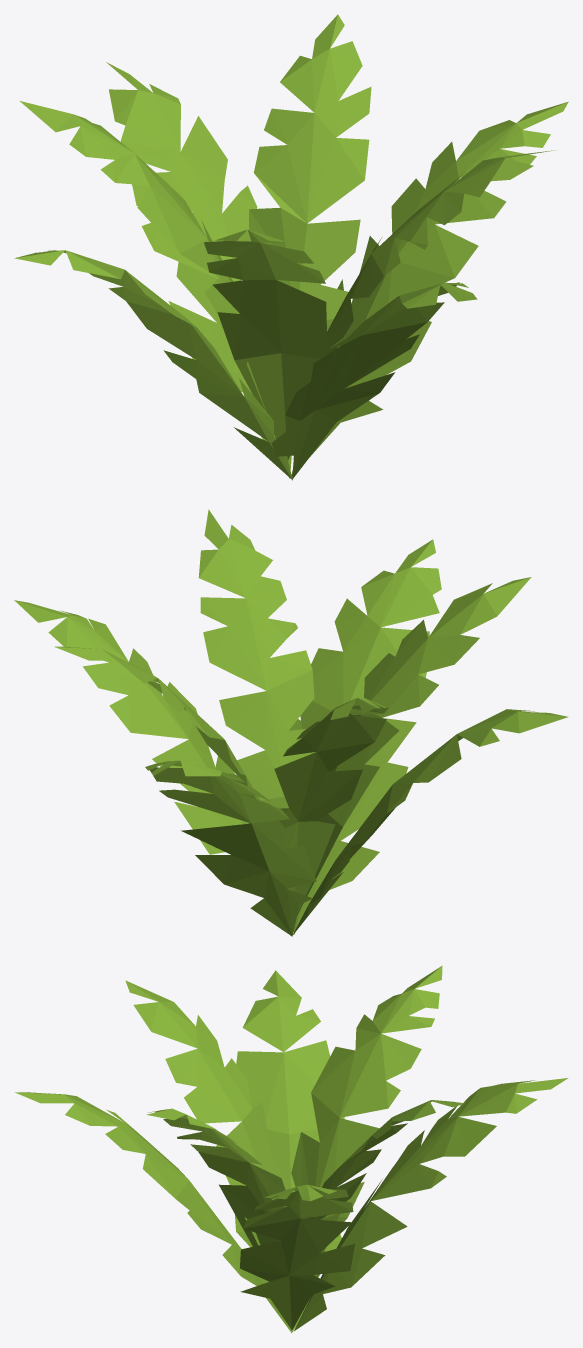
Rendered from SM_Grass_Fern_Mature_B.fbx.
The picture shows the model from 3 angles, top to bottom: view 1: azimuth 30°, elevation 25°; view 2: azimuth 150°, elevation 25°; view 3: azimuth 270°, elevation 25°; orthographic projection. The views are drawn at different scales.
Visible parts, largest first — view 1: grass-fern-mature-b; view 2: grass-fern-mature-b; view 3: grass-fern-mature-b.
Part boxes in pixels (bbox=[...]): grass-fern-mature-b: bbox=[14, 14, 568, 480]; grass-fern-mature-b: bbox=[14, 509, 567, 936]; grass-fern-mature-b: bbox=[15, 965, 568, 1333].
Size of the model in its own units: 1.39 by 0.8269 by 1.41.
